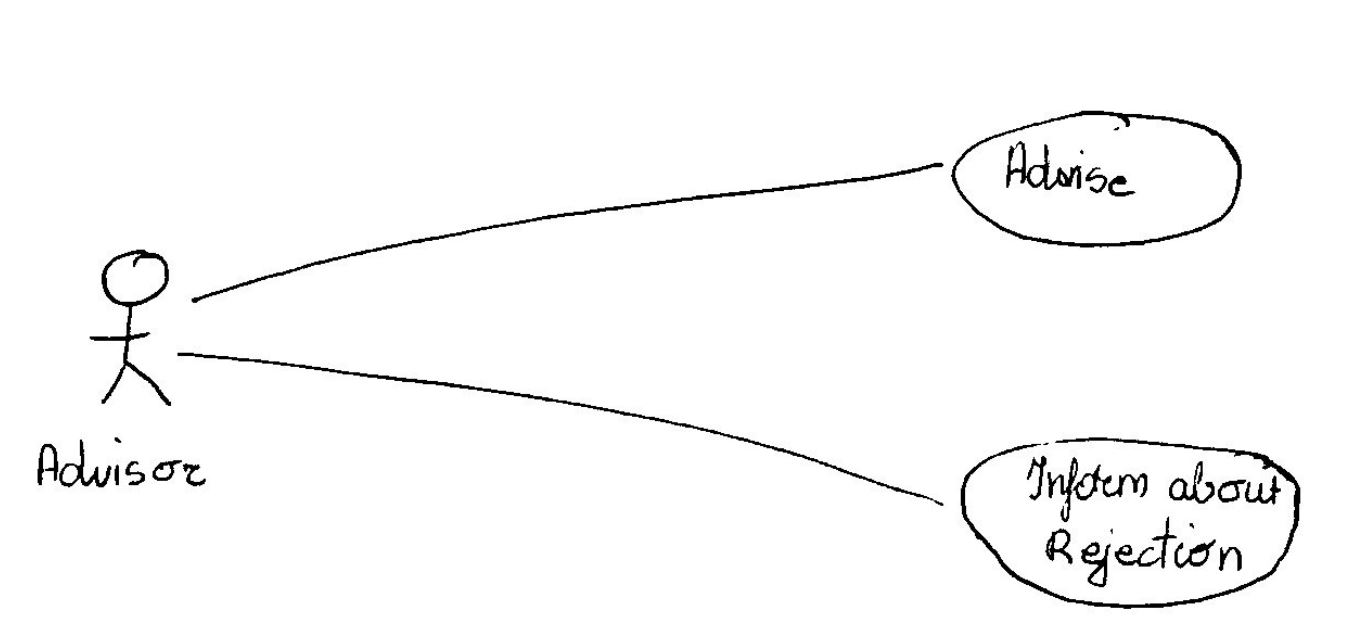actor: (94, 248, 180, 416)
association: (177, 350, 949, 507), (189, 157, 952, 306)
text: (1026, 448, 1266, 585), (31, 438, 217, 498), (1004, 136, 1137, 200)
use_case: (956, 434, 1300, 609), (951, 110, 1243, 245)
